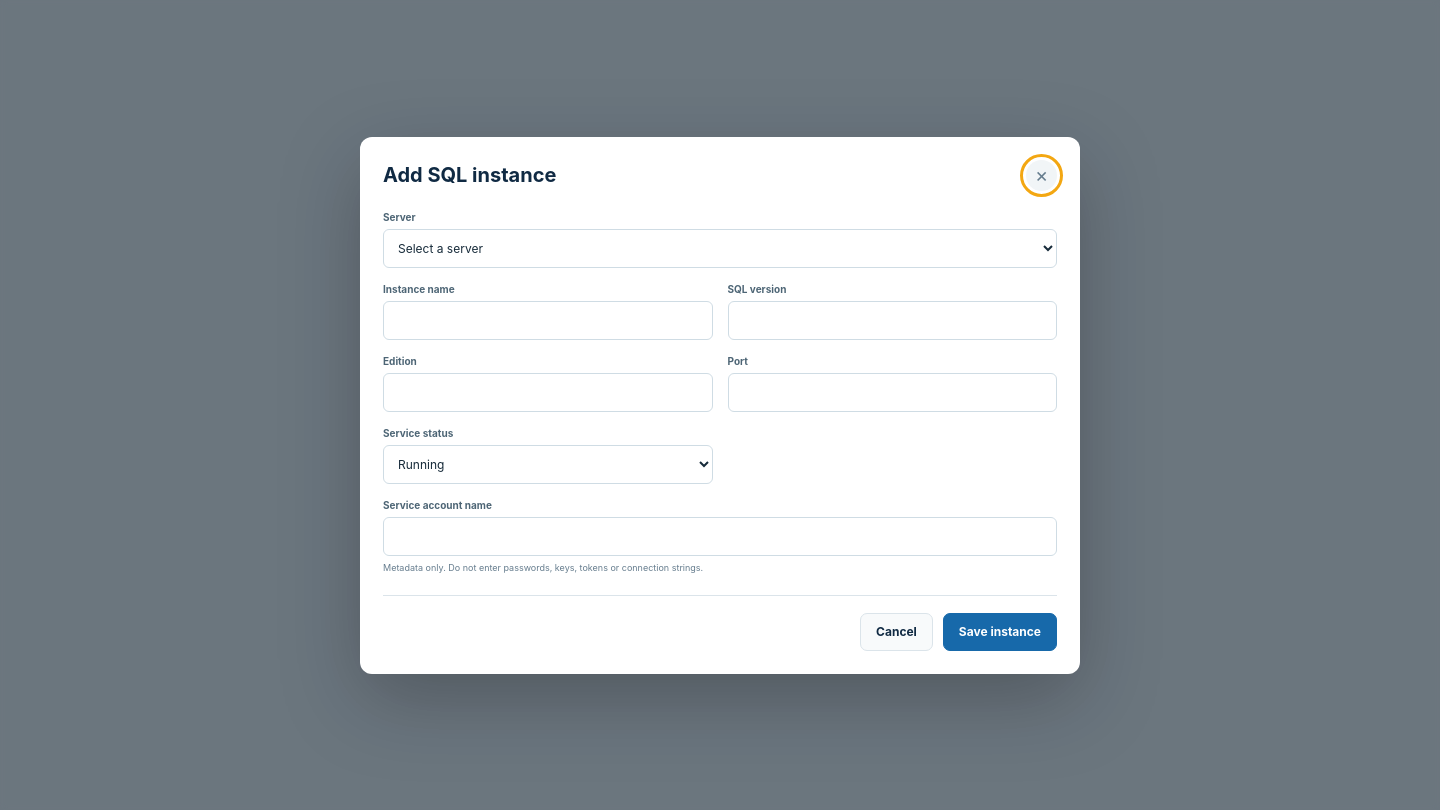
Scenario: SQL inventory forms › rejects an unsafe out-of-range port before any API mutation
The width and height of the screenshot is (1440, 810).
Select "Synthetic server" in the dropdown labelled "Server". click: (720, 248)
box: [383,228,1057,268]
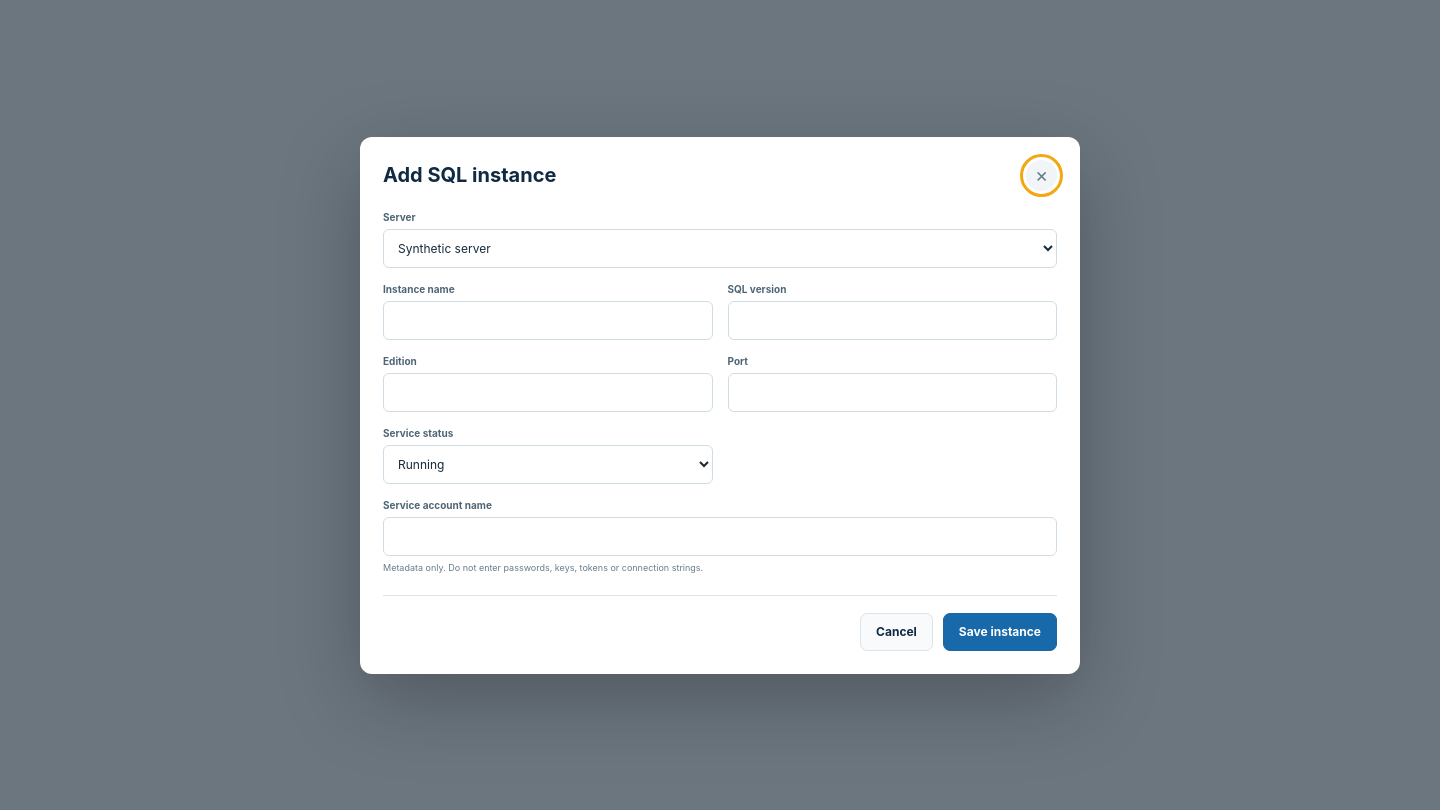
Type "SQL01" into the field labelled "Instance name". click: (548, 320)
box: [383,300,712,340]
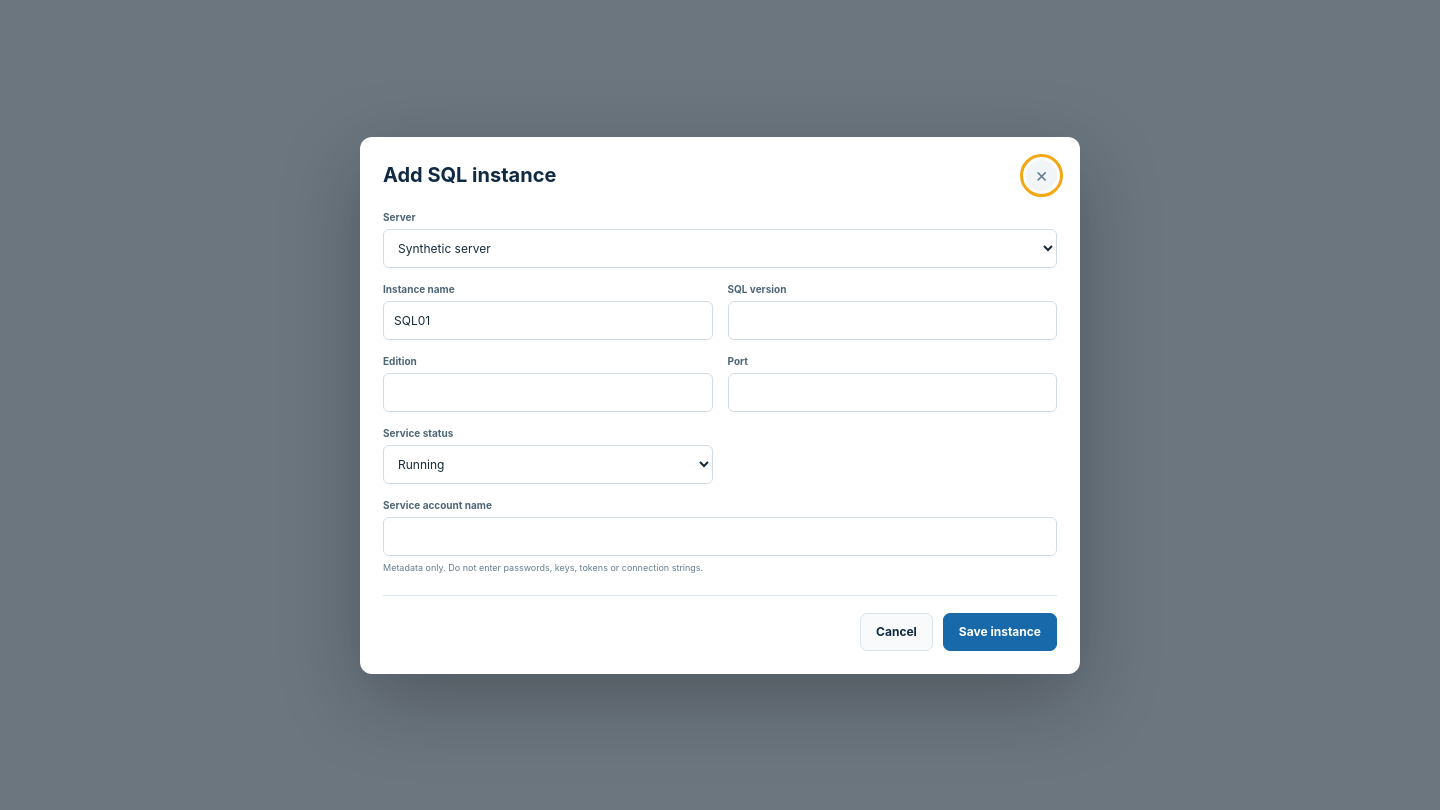
Type "2022" into the field labelled "SQL version". click: (892, 320)
box: [728,300,1057,340]
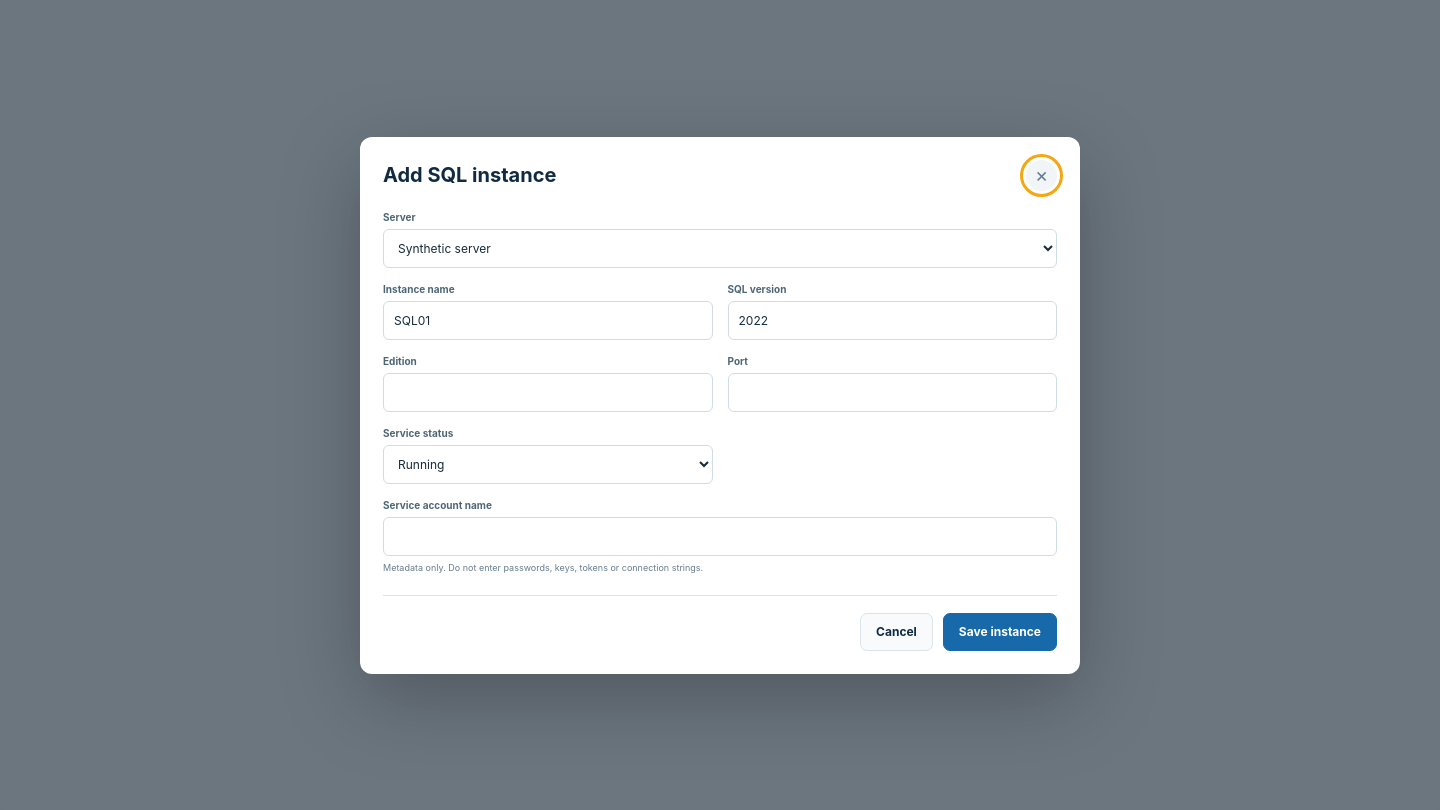
Type "Standard" into the field labelled "Edition". click: (548, 392)
box: [383,372,712,412]
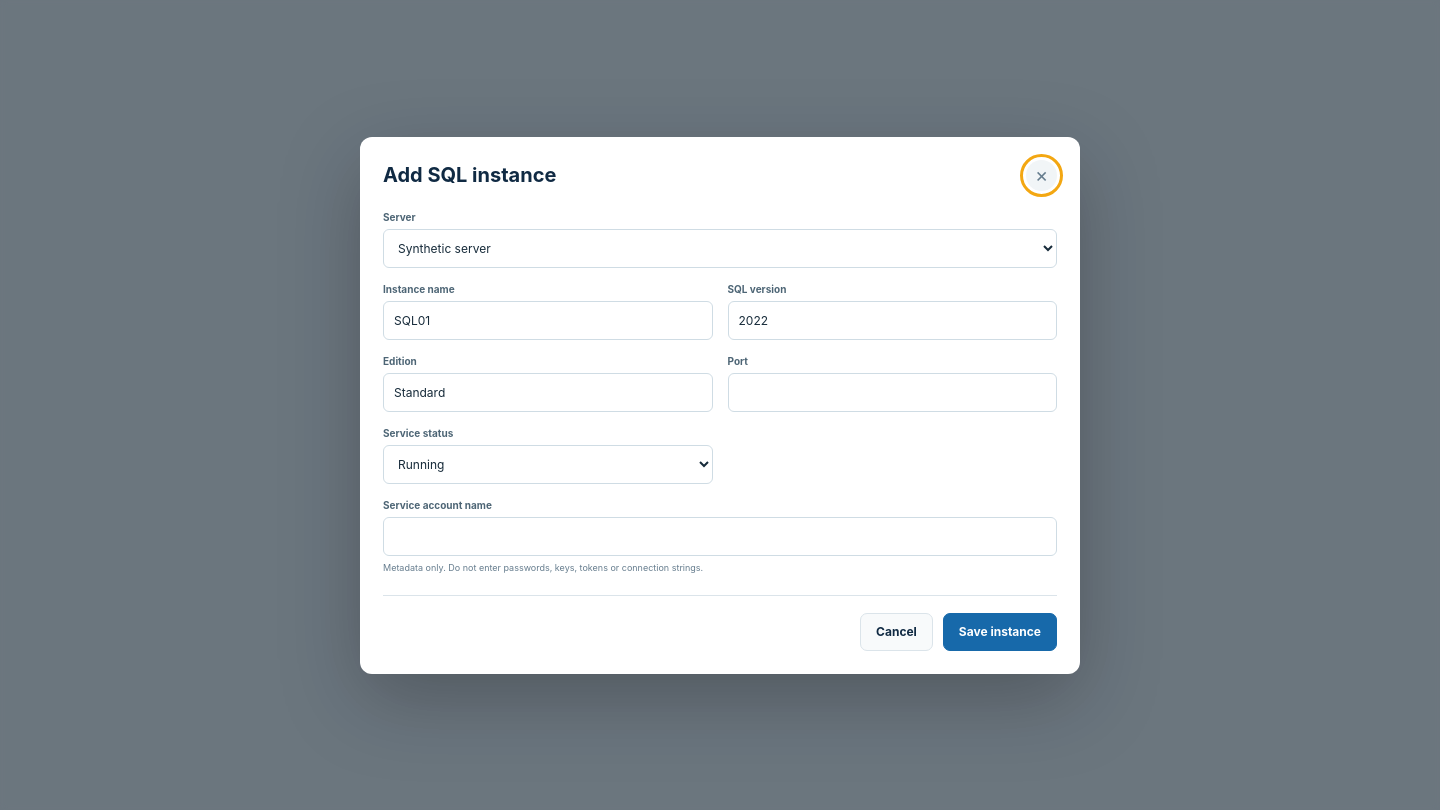
Type "70000" into the field labelled "Port". click: (892, 392)
box: [728,372,1057,412]
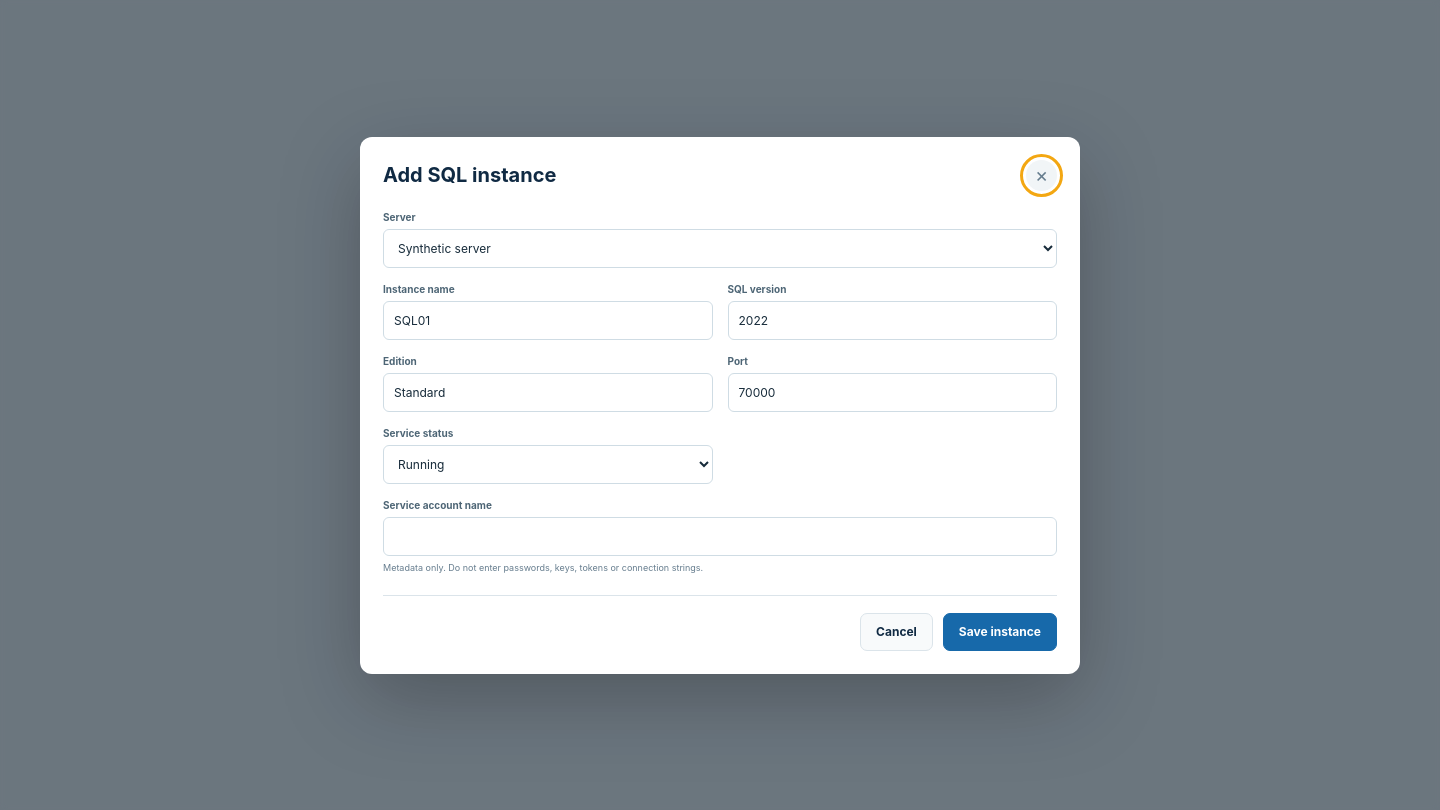
Click the button "Save instance". click: (1000, 632)
box: [943,612,1057,650]
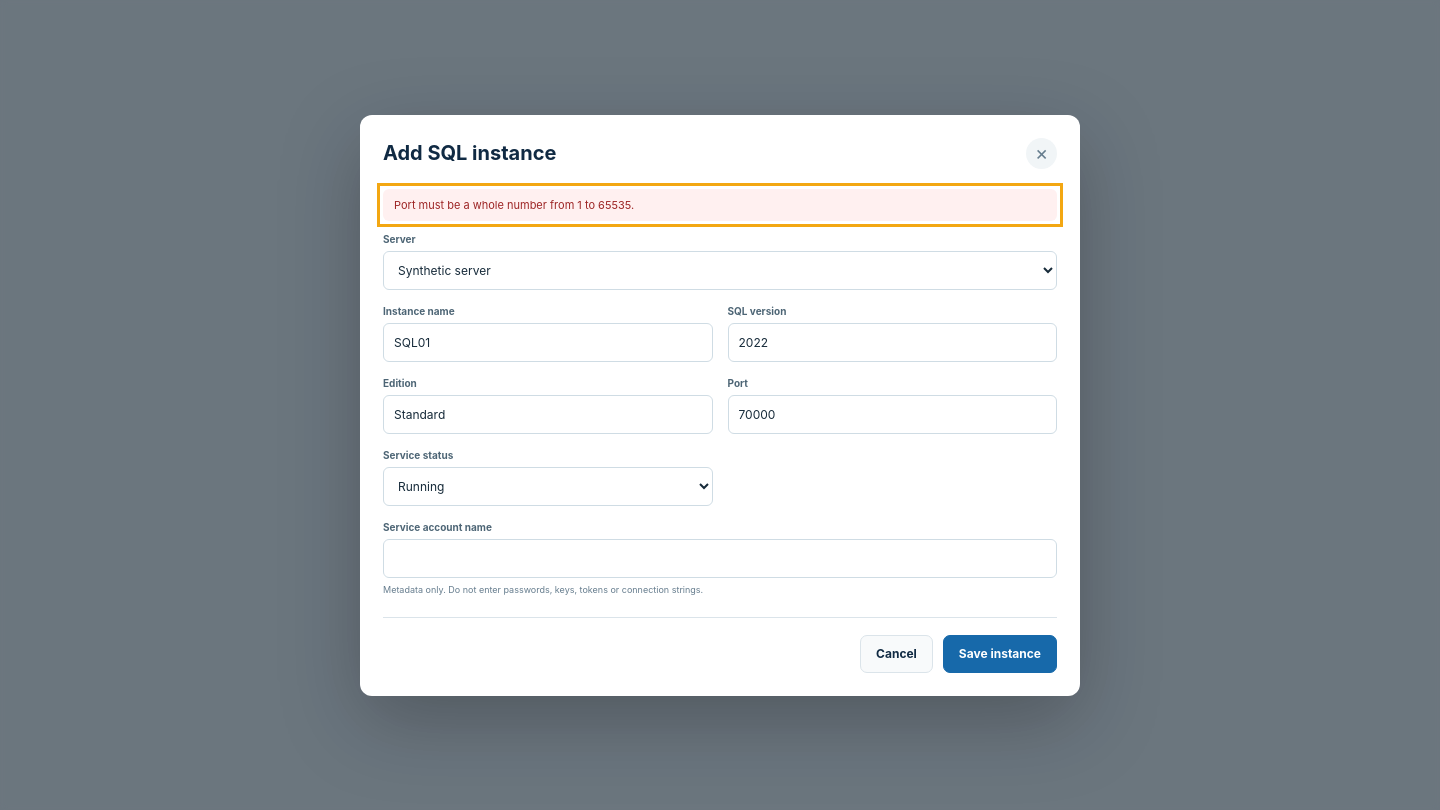
Result: the message shows "1 to 65535" at [394,198,634,212]
